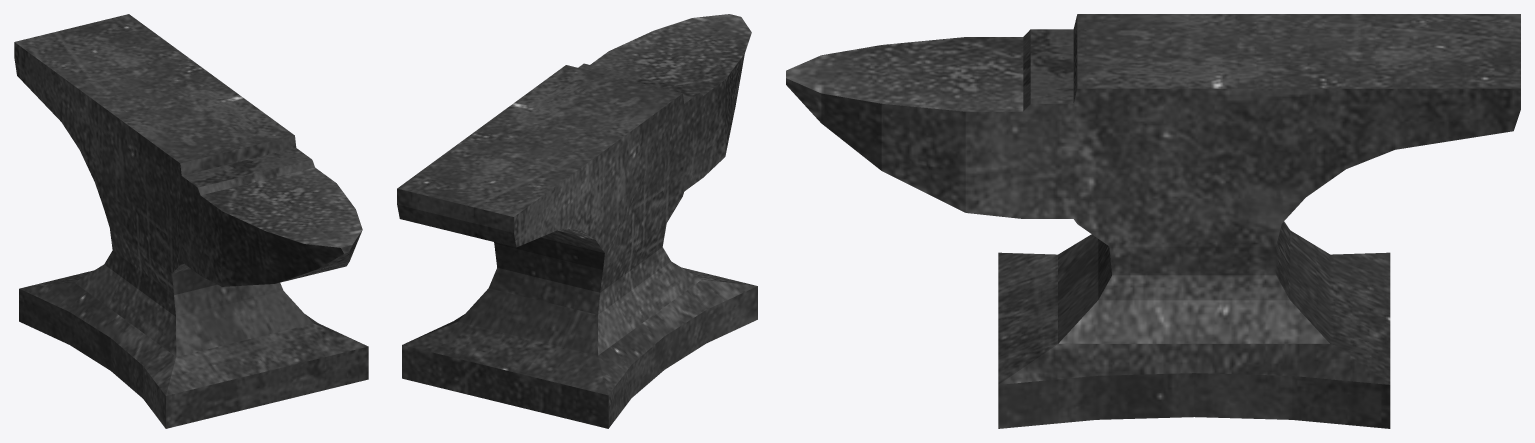
The model's file is Anvil.fbx.
The picture shows the model from 3 angles, left to right: view 1: azimuth 30°, elevation 25°; view 2: azimuth 150°, elevation 25°; view 3: azimuth 270°, elevation 25°; orthographic projection. The views are drawn at different scales.
Visible parts, largest first — view 1: Cube; view 2: Cube; view 3: Cube.
Part boxes in pixels (x1,y1,x2,y2): Cube: [14, 14, 368, 428]; Cube: [397, 14, 757, 428]; Cube: [786, 14, 1520, 428].
Size of the model in its own units: 3.54 by 3.89 by 8.31.
